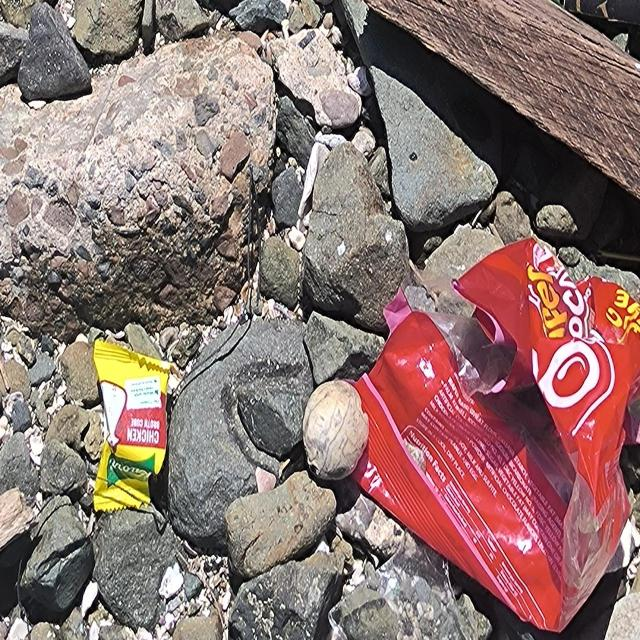plastic_waste: (352, 237, 640, 635), (93, 338, 173, 514)
